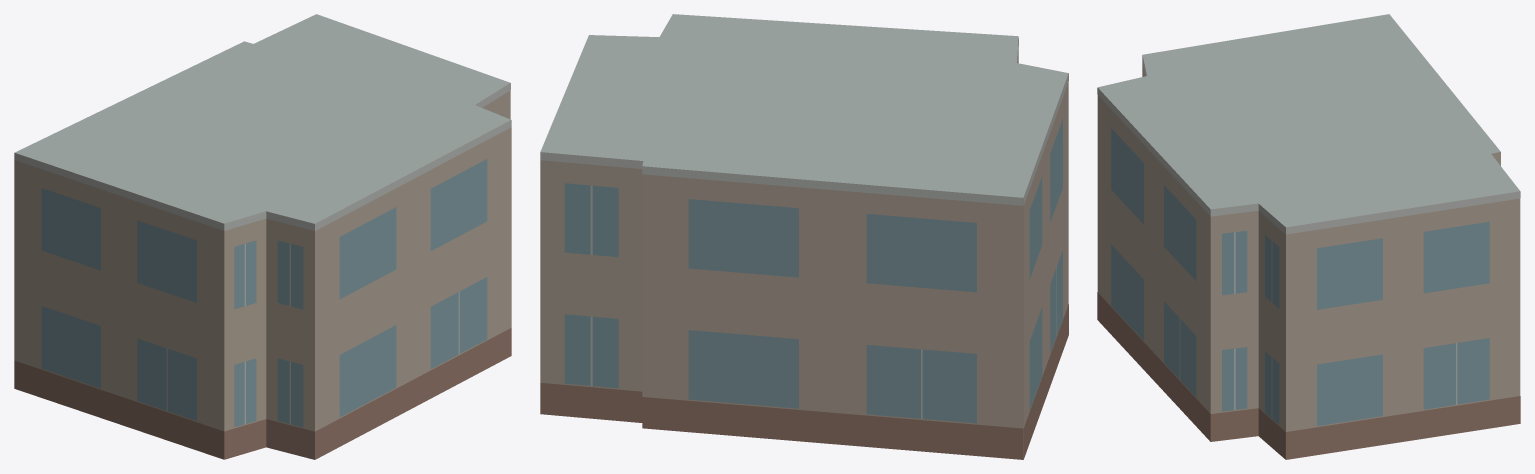
The model's file is survey-upis-32629851.glb.
3 views of the same model, side by side, from view 1: azimuth 30°, elevation 25°; view 2: azimuth 150°, elevation 25°; view 3: azimuth 270°, elevation 25° (orthographic). The views are drawn at different scales.
Parts seen in each view (by area): view 1: survey-upis-32629851.tmp; view 2: survey-upis-32629851.tmp; view 3: survey-upis-32629851.tmp.
Boxes of the visible parts, x1,y1,x2,y2 form: survey-upis-32629851.tmp: (14, 14, 511, 459); survey-upis-32629851.tmp: (540, 14, 1068, 459); survey-upis-32629851.tmp: (1097, 14, 1520, 459).
Bounding box in the file's own units: 15.56 × 7.9 × 13.04.
